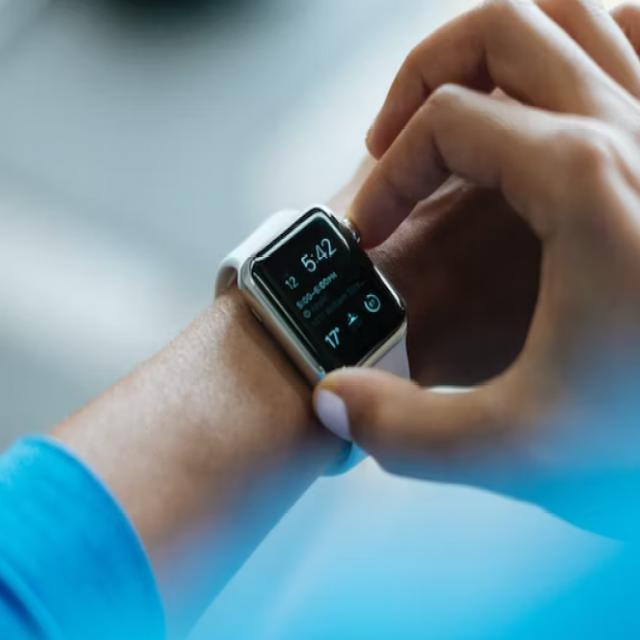Watch: (218, 196, 410, 390)
